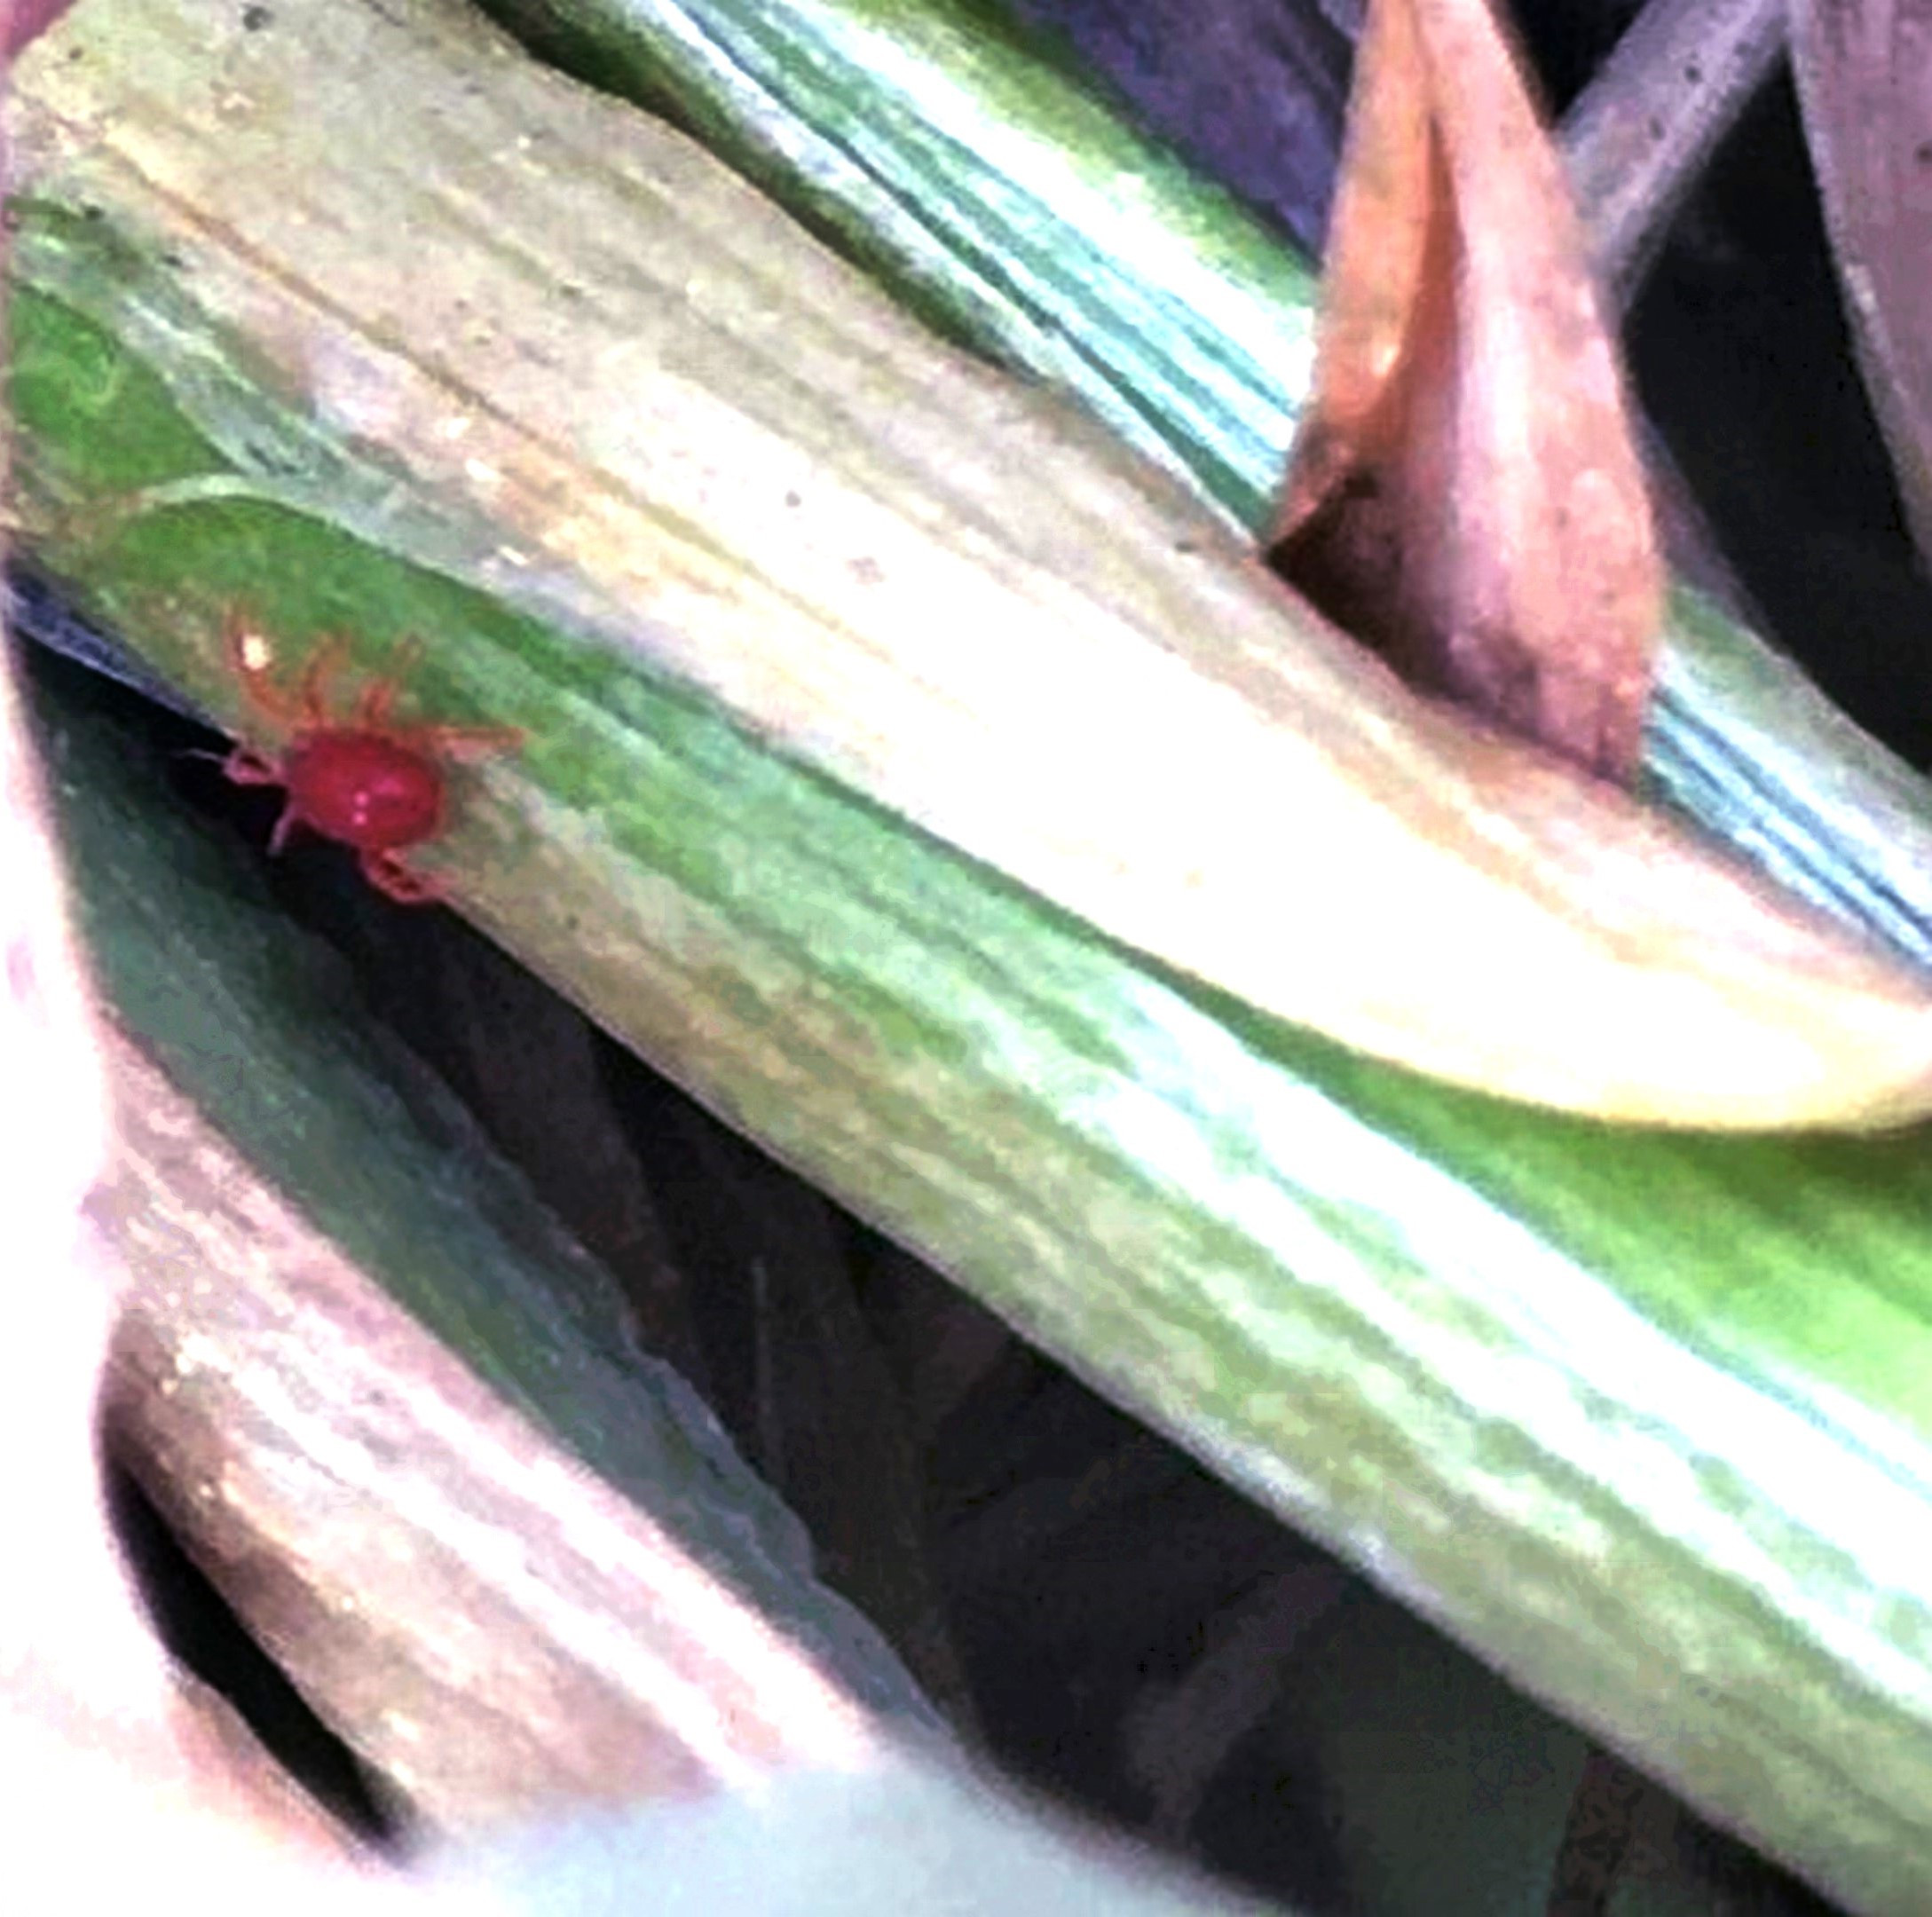Wheat Red Spider: (149, 558, 549, 992)
